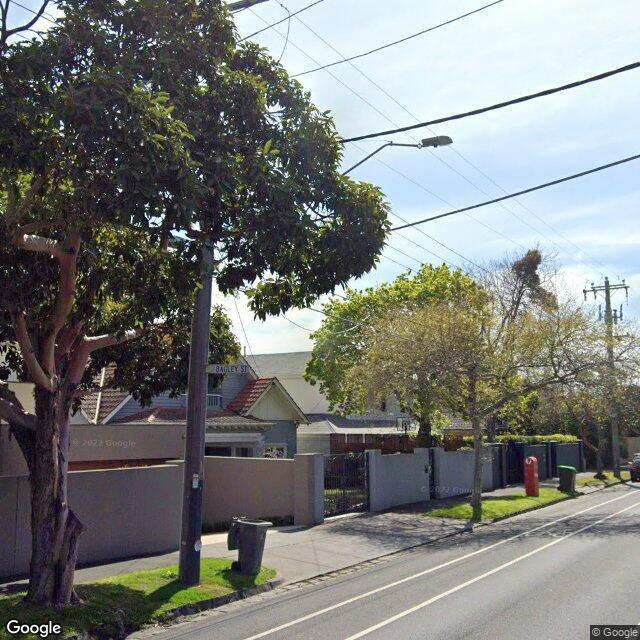HV-transmission: (583, 278, 631, 302)
crossarm: (584, 285, 630, 292)
streetlight: (213, 134, 455, 266)
timber-pole: (177, 174, 216, 586), (602, 277, 622, 479)
